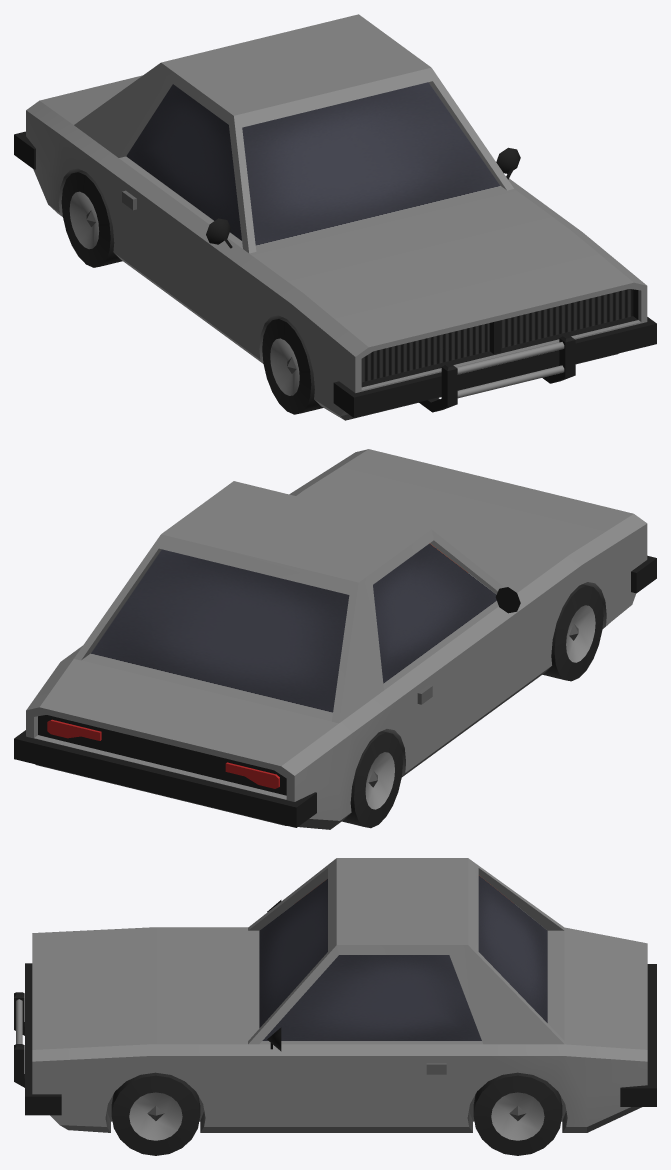
The model's file is Car_B3.fbx.
The picture shows the model from 3 angles, top to bottom: view 1: azimuth 30°, elevation 25°; view 2: azimuth 150°, elevation 25°; view 3: azimuth 270°, elevation 25°; orthographic projection. The views are drawn at different scales.
Parts seen in each view (by area): view 1: Car2_Body, Car2_RF, Car2_RR; view 2: Car2_Body, Car2_RR, Car2_RF; view 3: Car2_Body, Car2_LR, Car2_LF.
Boxes of the visible parts, <box> form: Car2_Body: <box>14,14,656,420</box>; Car2_RF: <box>262,317,323,414</box>; Car2_RR: <box>61,171,122,267</box>; Car2_Body: <box>14,449,656,829</box>; Car2_RR: <box>342,731,402,828</box>; Car2_RF: <box>542,584,603,681</box>; Car2_Body: <box>14,858,656,1132</box>; Car2_LR: <box>473,1072,562,1155</box>; Car2_LF: <box>111,1072,200,1155</box>.
Size of the model in its own units: 206 by 132 by 404.
1 material, 1 textured.
